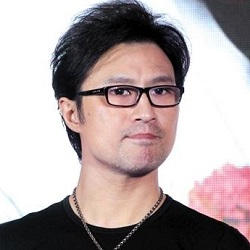unmask: (69, 60, 190, 177)
